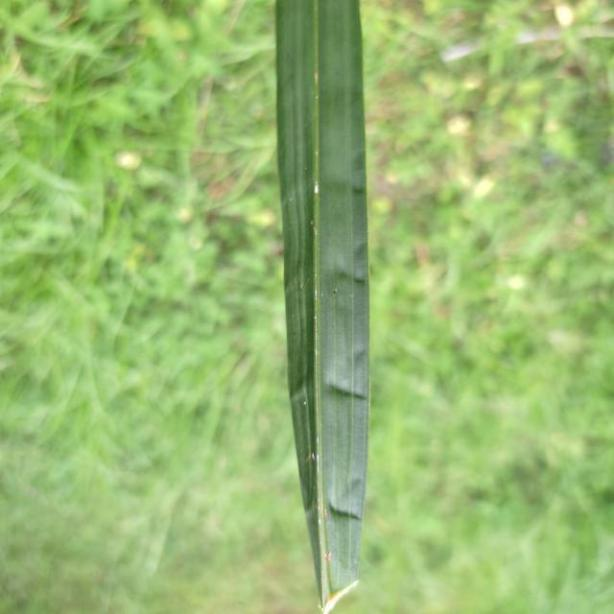Boron: (277, 0, 374, 614)
